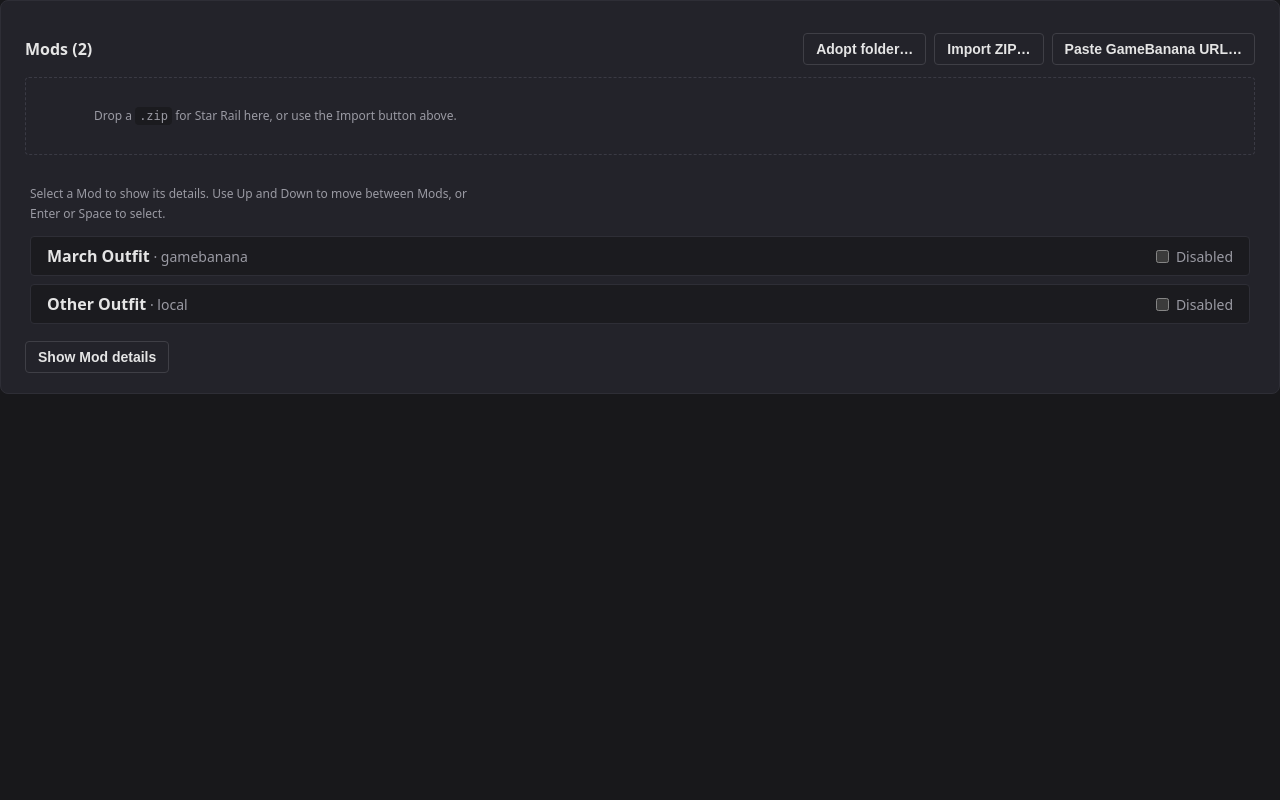
it: removes the upstream error when selecting a local Mod in the same Game
Click the list item "March Outfit": point(640, 256) 30,236 -> 1250,276
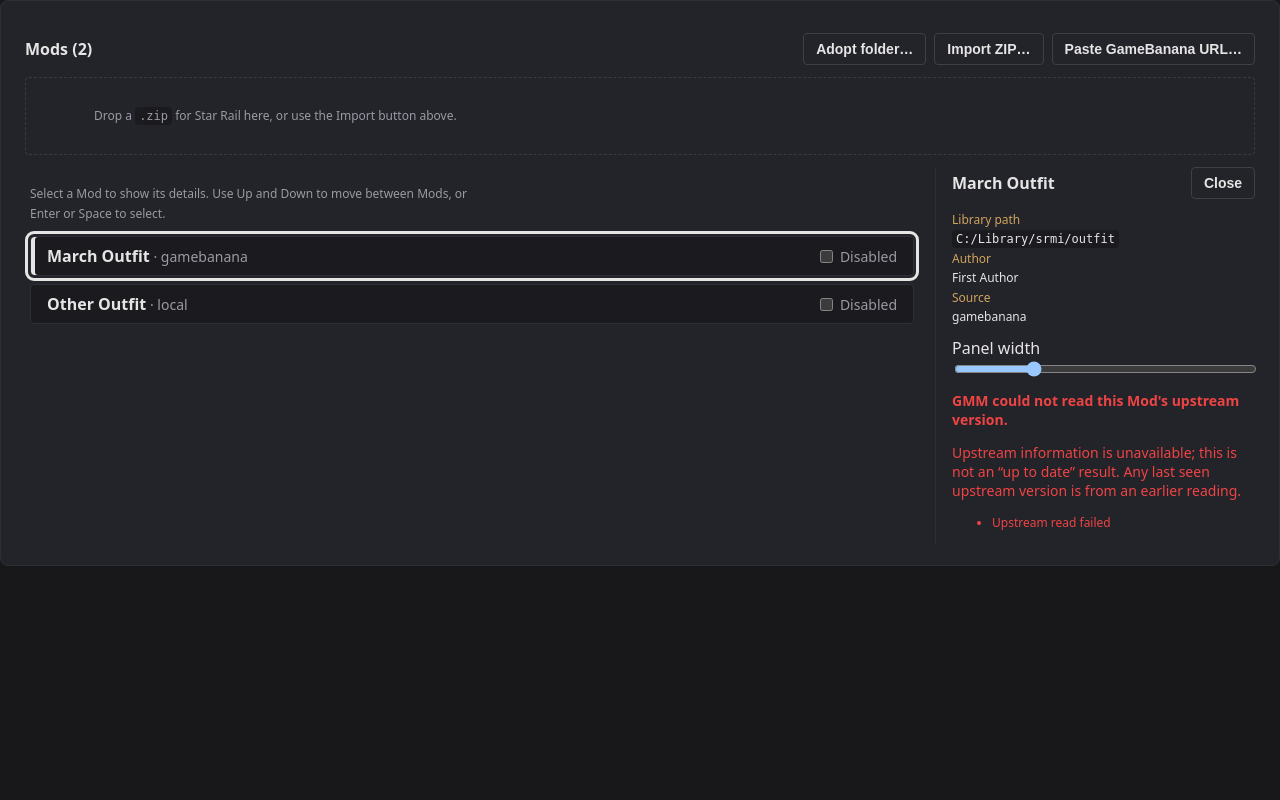
Check: the text "GMM could not read this Mod's upstream version." is shown, box 952,391 -> 1239,429
Click the list item "Other Outfit": point(472, 304) 30,284 -> 914,324
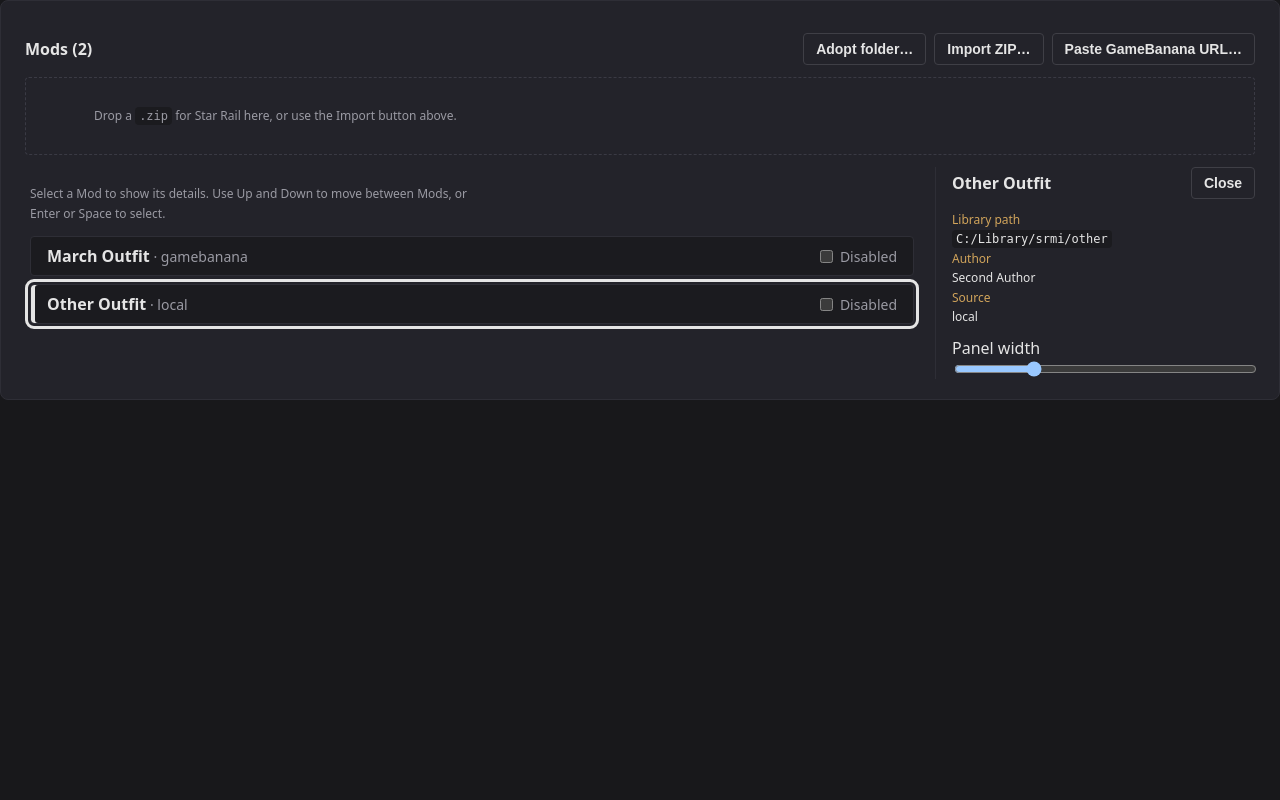
Check: the element "Other Outfit" is shown, box 935,167 -> 1255,379
Check: the text "GMM could not read this Mod's upstream version." is gone
Check: the list item "Upstream read failed" is gone
